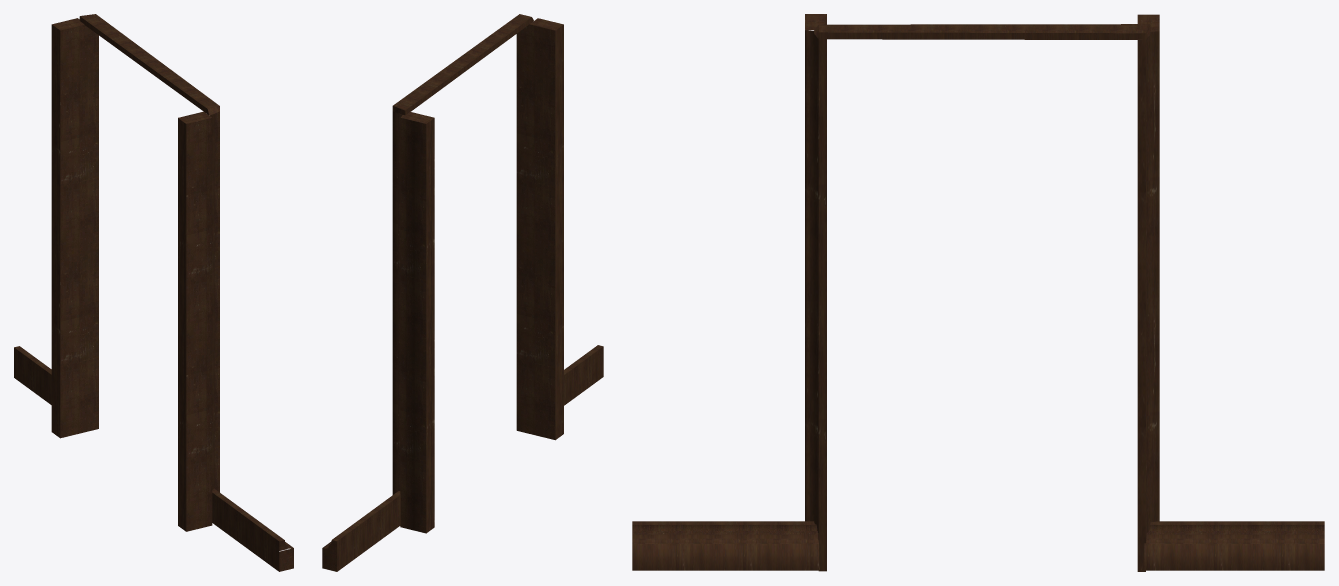
Rendered from soupdoortrim001.glb.
3 views of the same model, side by side, from view 1: azimuth 30°, elevation 25°; view 2: azimuth 150°, elevation 25°; view 3: azimuth 270°, elevation 25° (orthographic). The views are drawn at different scales.
Parts seen in each view (by area): view 1: soupdoortrim001_high_1; view 2: soupdoortrim001_high_1; view 3: soupdoortrim001_high_1.
Boxes of the visible parts, left/top/right/bottom form: soupdoortrim001_high_1: left=14, top=14, right=293, bottom=571; soupdoortrim001_high_1: left=322, top=14, right=603, bottom=571; soupdoortrim001_high_1: left=632, top=14, right=1324, bottom=571.
Bounding box in the file's own units: 0.2435 × 2.32 × 2.7.
1 material, 1 textured.
